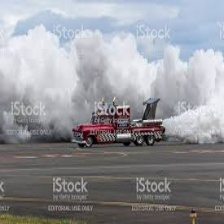smoke: (6, 37, 222, 111)
